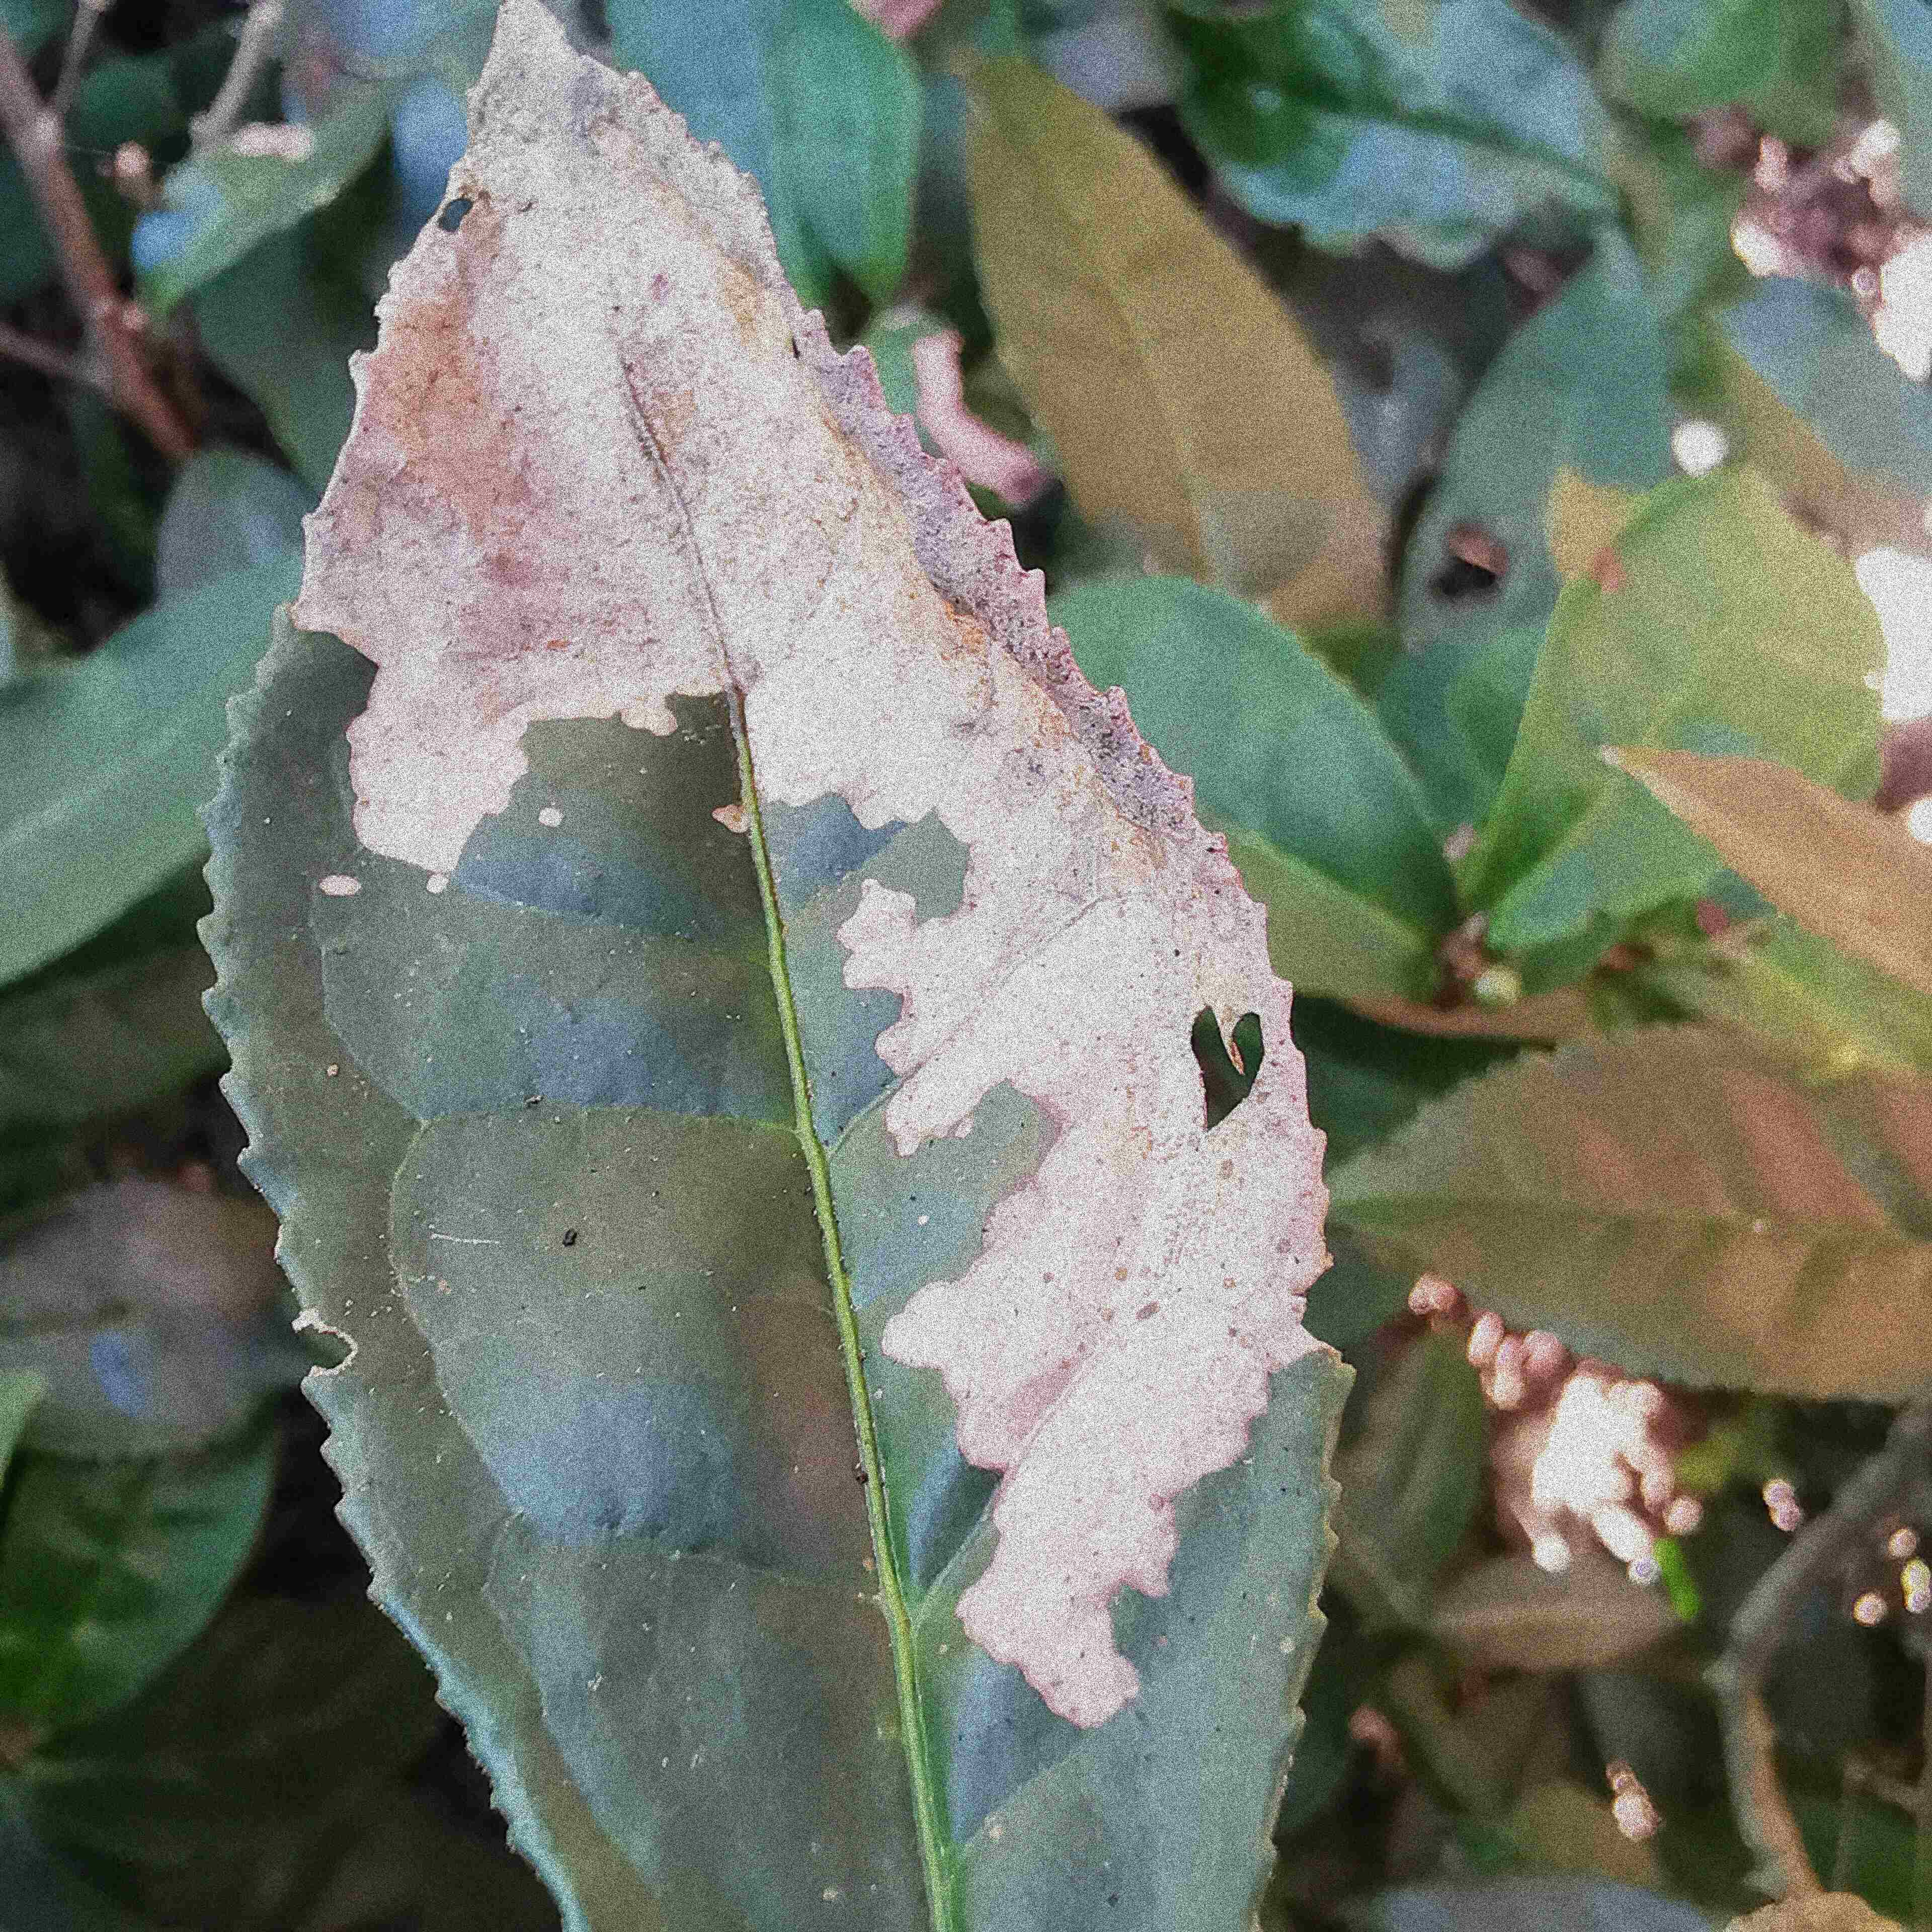tanju_high: (186, 5, 1361, 1930)
